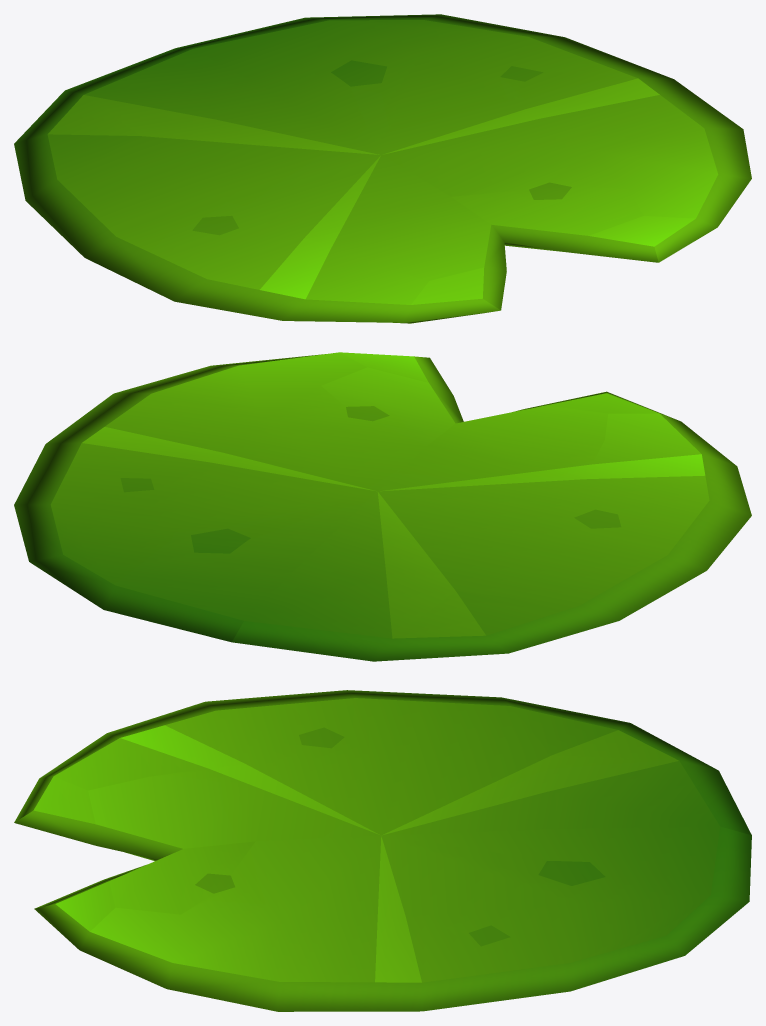
The model's file is waterlily_yellow2.glb.
The picture shows the model from 3 angles, top to bottom: view 1: azimuth 30°, elevation 25°; view 2: azimuth 150°, elevation 25°; view 3: azimuth 270°, elevation 25°; orthographic projection. The views are drawn at different scales.
Parts seen in each view (by area): view 1: waterlily_yellow2; view 2: waterlily_yellow2; view 3: waterlily_yellow2.
Boxes of the visible parts, x1,y1,x2,y2 form: waterlily_yellow2: (14, 14, 751, 323); waterlily_yellow2: (14, 352, 751, 661); waterlily_yellow2: (14, 690, 751, 1011).
Size of the model in its own units: 0.8034 by 0.0358 by 0.7788.
1 material, 1 textured.
